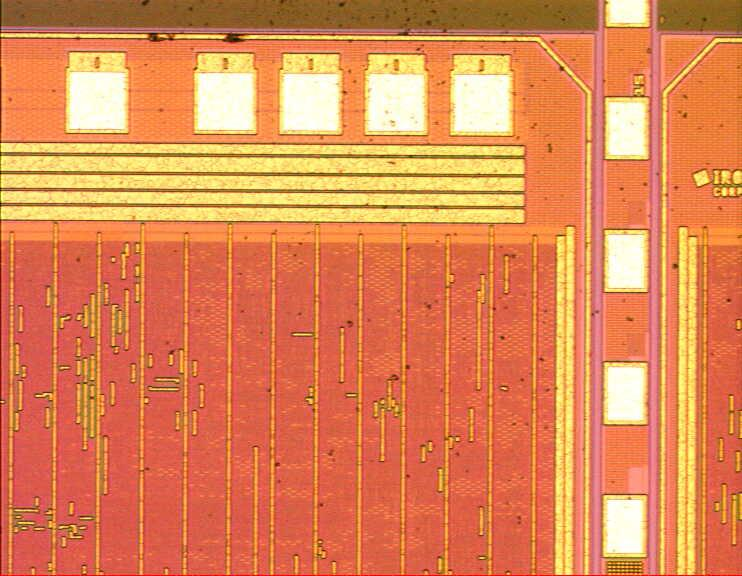PO CONTAMINATION: (68, 1, 742, 530)
